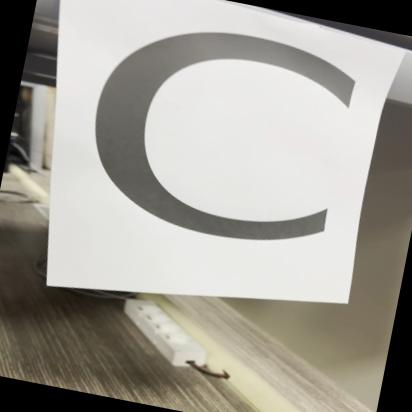seat: (55, 0, 392, 287)
